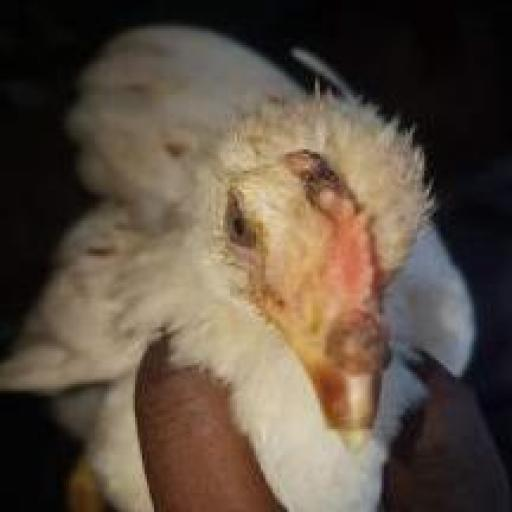disease: (270, 136, 441, 234), (318, 289, 416, 393)
